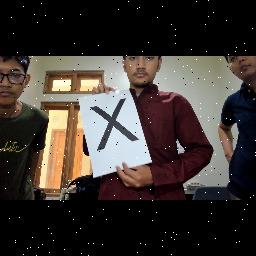x: (88, 96, 144, 154)
